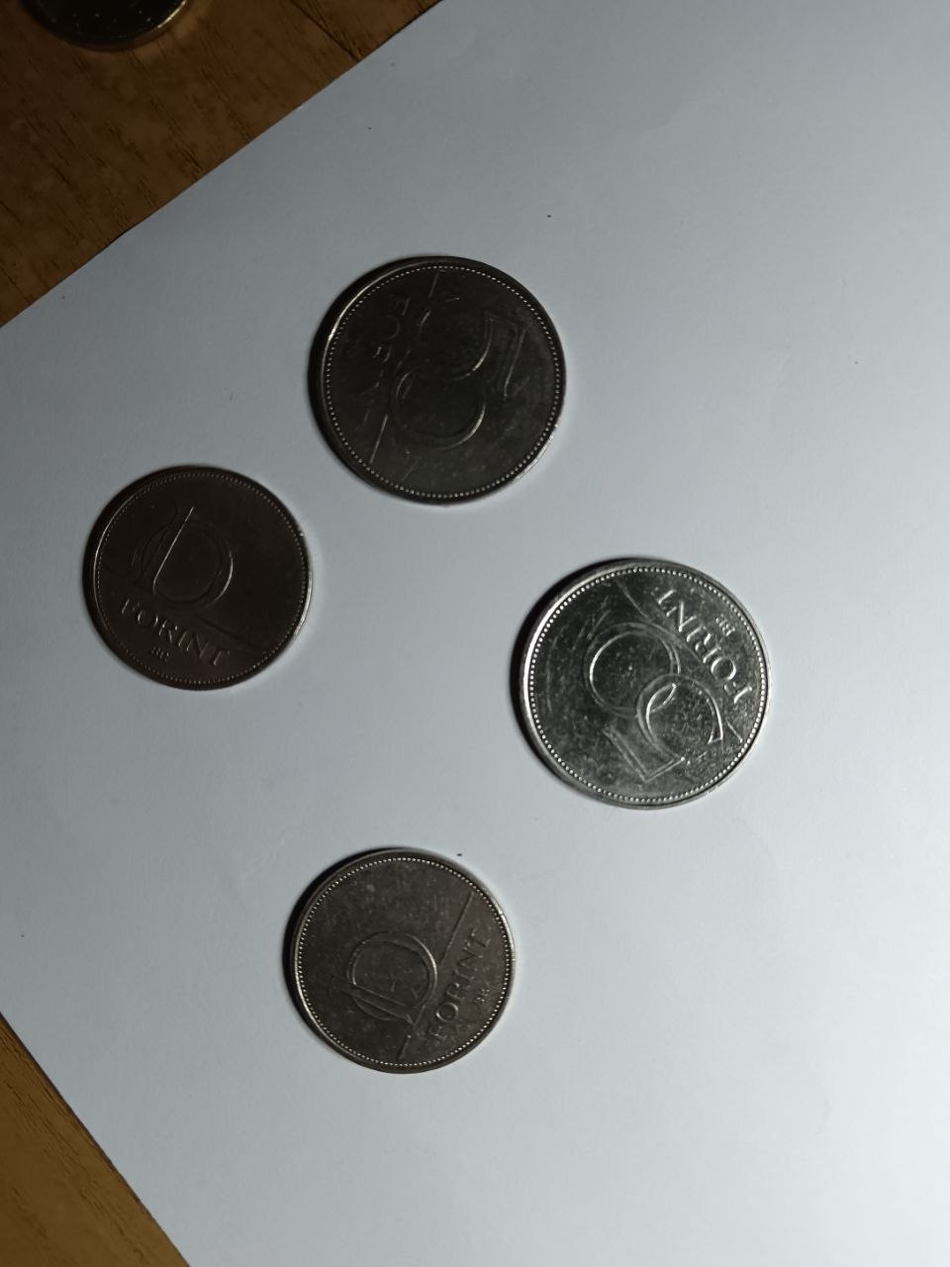10ft: (80, 466, 311, 688), (291, 856, 516, 1071)
50ft: (311, 257, 564, 506), (516, 563, 766, 807)
